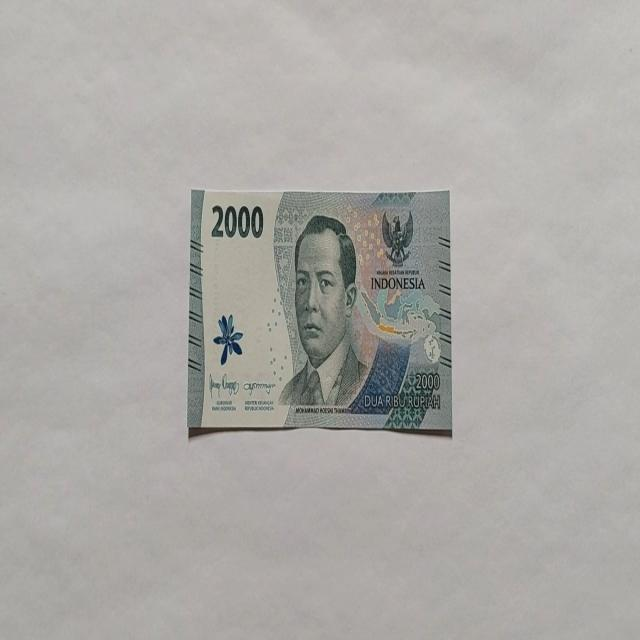dua ribu rupiah: (187, 186, 452, 437), (277, 214, 370, 408)
